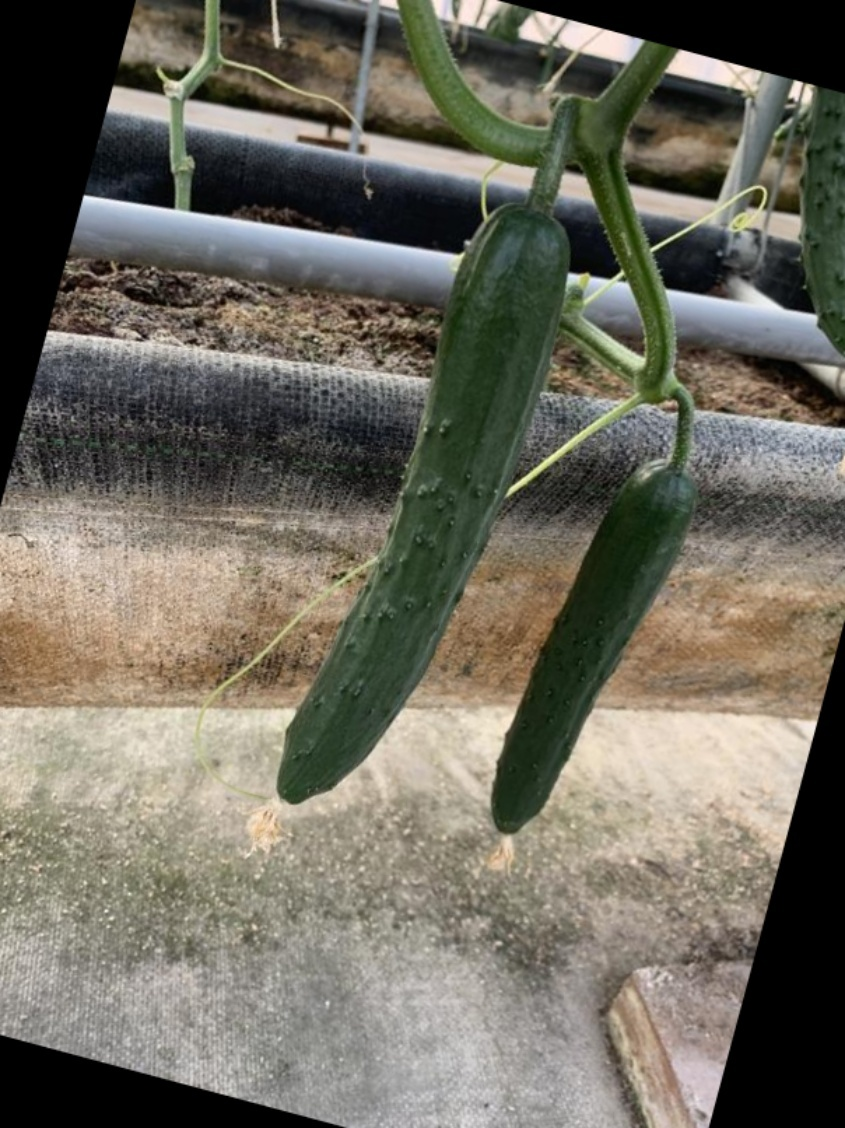mature: (476, 455, 697, 846)
